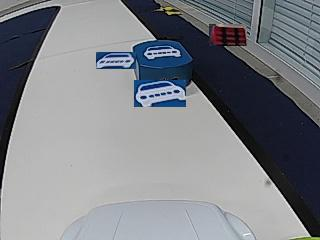safety: (143, 45, 182, 59)
